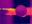Hotspot: (0, 9, 15, 12)
